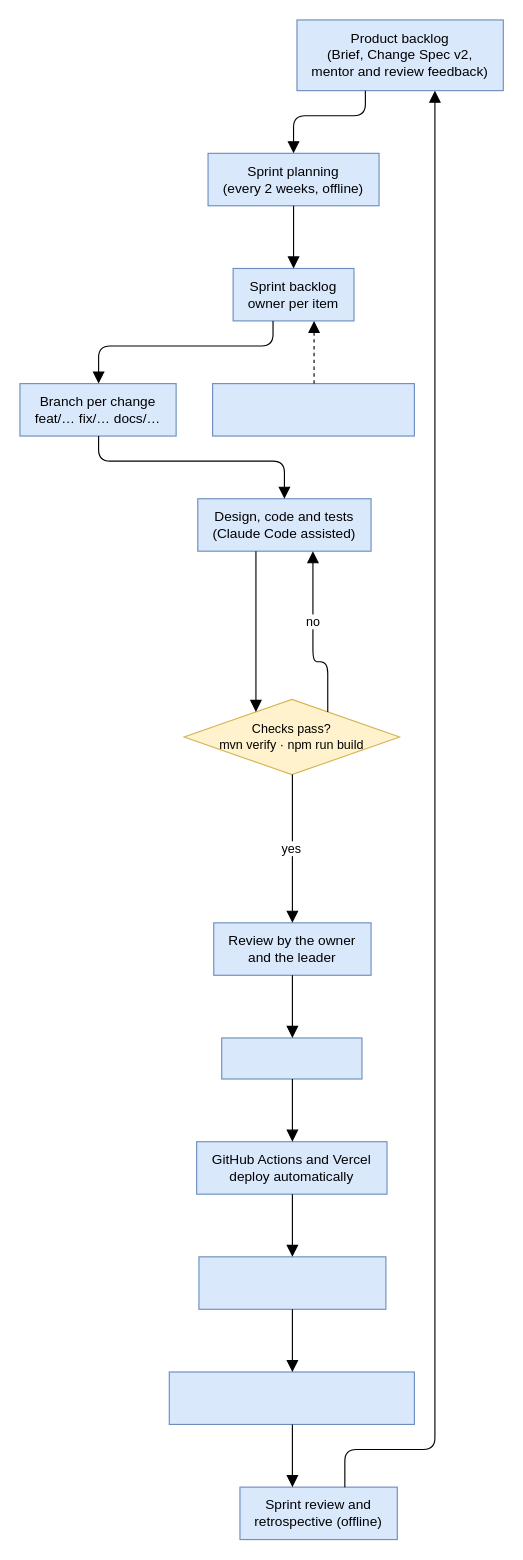
This 523x1560 diagram has some shape labels left out. Here are the shapes that lost their labels. From the top down, the centre of each, then its label:
[312,409]: Team meetings 2× per week (offline): progress, blockers
[291,1058]: Fast-forward main
[292,1282]: Verify: Actions deploy job, Vercel Ready, health UP
[291,1397]: Weekly mentor meeting (Google Meet): demo and feedback
